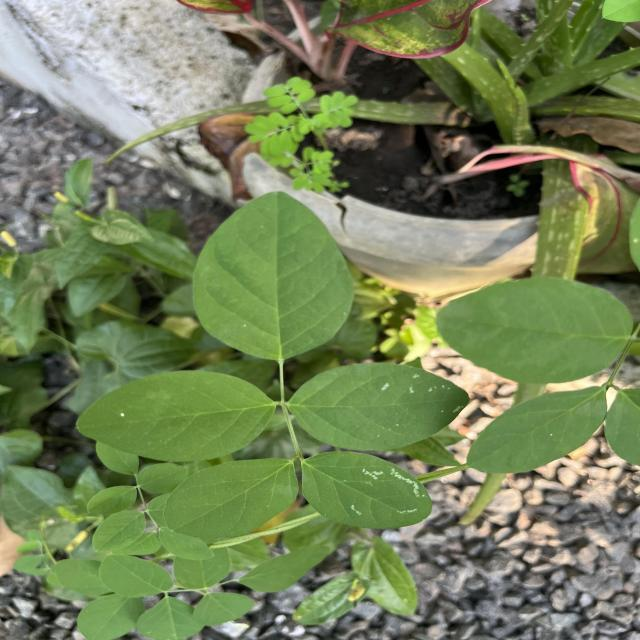Clitoria ternatea: (190, 191, 356, 362), (75, 370, 278, 462), (288, 361, 472, 452), (163, 457, 300, 539), (300, 450, 434, 530)
